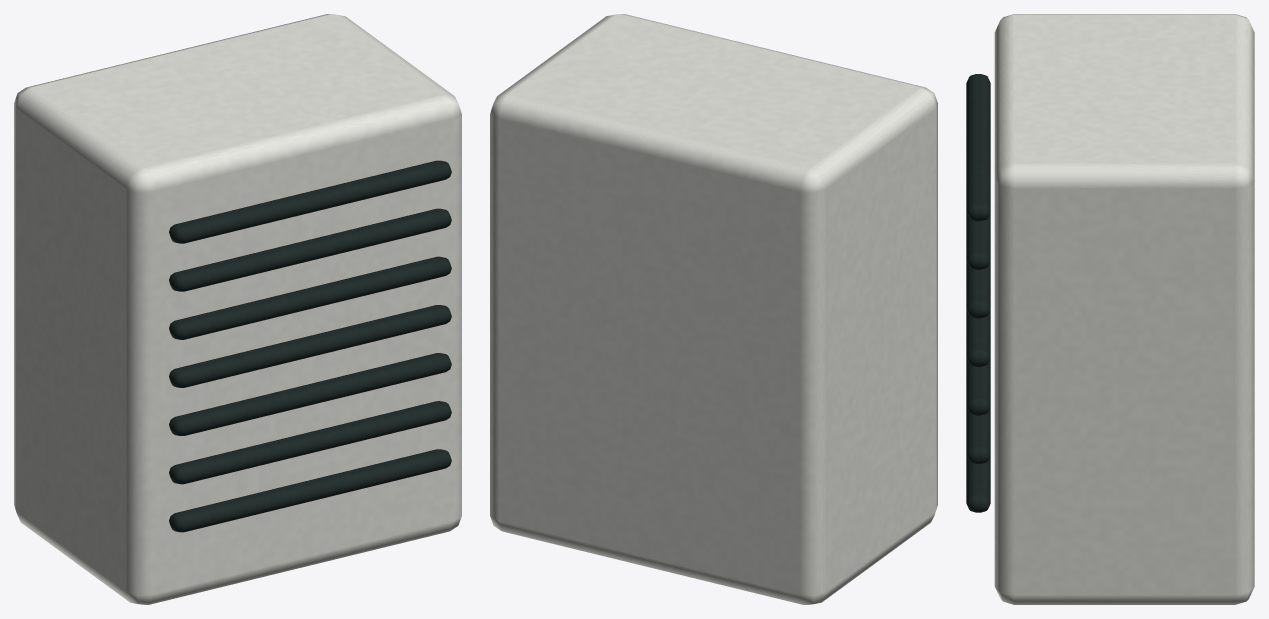
The model's file is detail-speaker-0.glb.
3 renders of one model, left to right at view 1: azimuth 30°, elevation 25°; view 2: azimuth 150°, elevation 25°; view 3: azimuth 270°, elevation 25°, orthographic.
Visible parts, largest first — view 1: speaker_housing, speaker_grille (×7); view 2: speaker_housing; view 3: speaker_housing, speaker_grille (×7).
Part boxes in pixels (x1=…): speaker_housing: x1=14, y1=14, x2=461, y2=604; speaker_grille (×7): x1=169, y1=160, x2=451, y2=532; speaker_housing: x1=490, y1=14, x2=937, y2=604; speaker_housing: x1=994, y1=14, x2=1254, y2=604; speaker_grille (×7): x1=966, y1=74, x2=990, y2=512.
Bounding box in the file's own units: 0.24 × 0.3 × 0.1775.
Materials: 2 (2 with a texture image).
